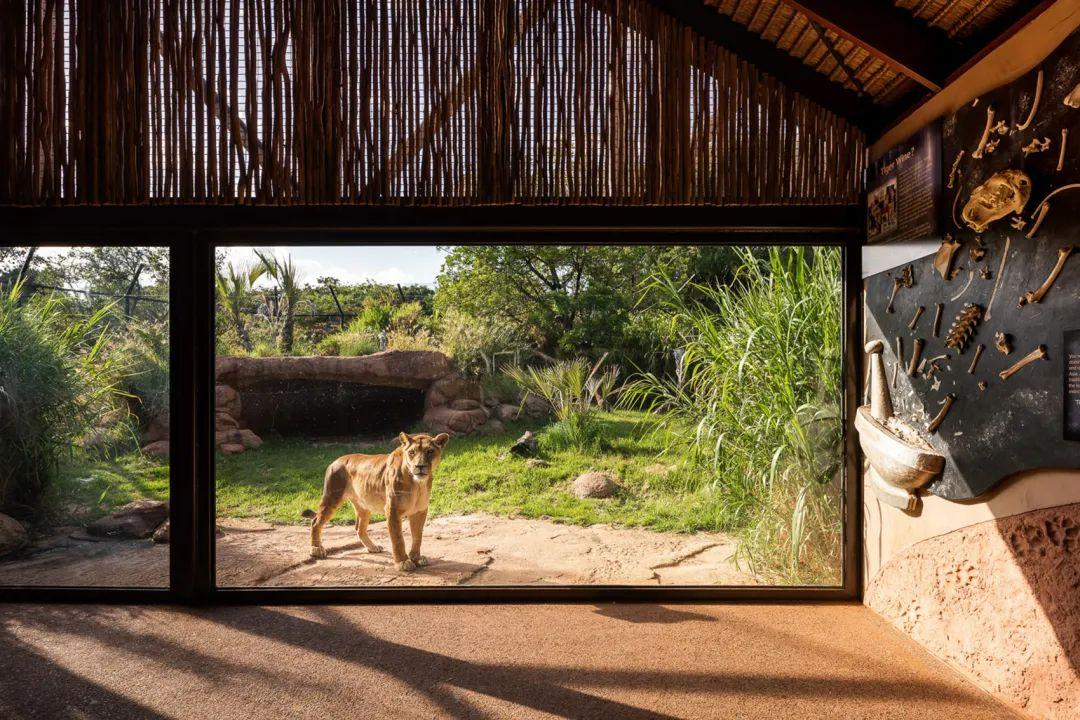animal: (289, 383, 472, 581)
